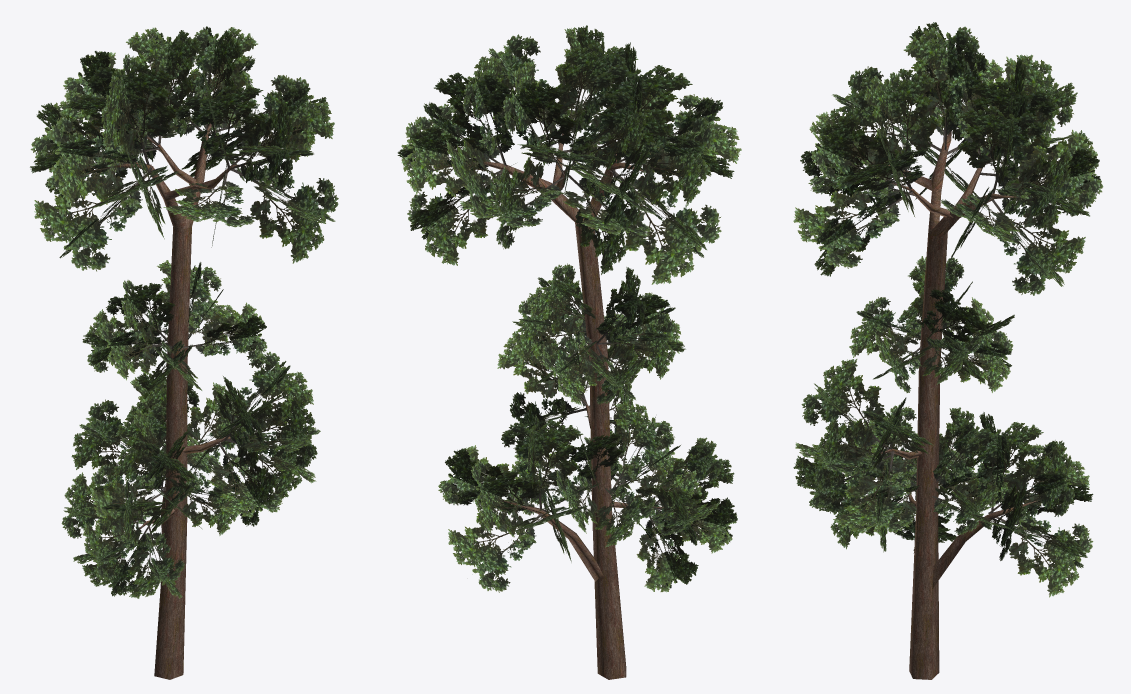
File: EnglishElm.dae
3 renders of one model, left to right at view 1: azimuth 30°, elevation 25°; view 2: azimuth 150°, elevation 25°; view 3: azimuth 270°, elevation 25°, orthographic. The views are drawn at different scales.
Parts seen in each view (by area): view 1: group_0 (×70), group_1; view 2: group_0 (×68), group_1 (×2); view 3: group_0 (×64), group_1 (×2).
Boxes of the visible parts, left/top/right/bottom form: group_0 (×70): left=30, top=26, right=338, bottom=598; group_1: left=114, top=123, right=211, bottom=679; group_0 (×68): left=397, top=25, right=741, bottom=592; group_1 (×2): left=483, top=154, right=644, bottom=679; group_0 (×64): left=793, top=22, right=1103, bottom=597; group_1 (×2): left=886, top=131, right=1038, bottom=679.
Size of the model in its own units: 259 by 250 by 529.
2 materials, 2 textured.
